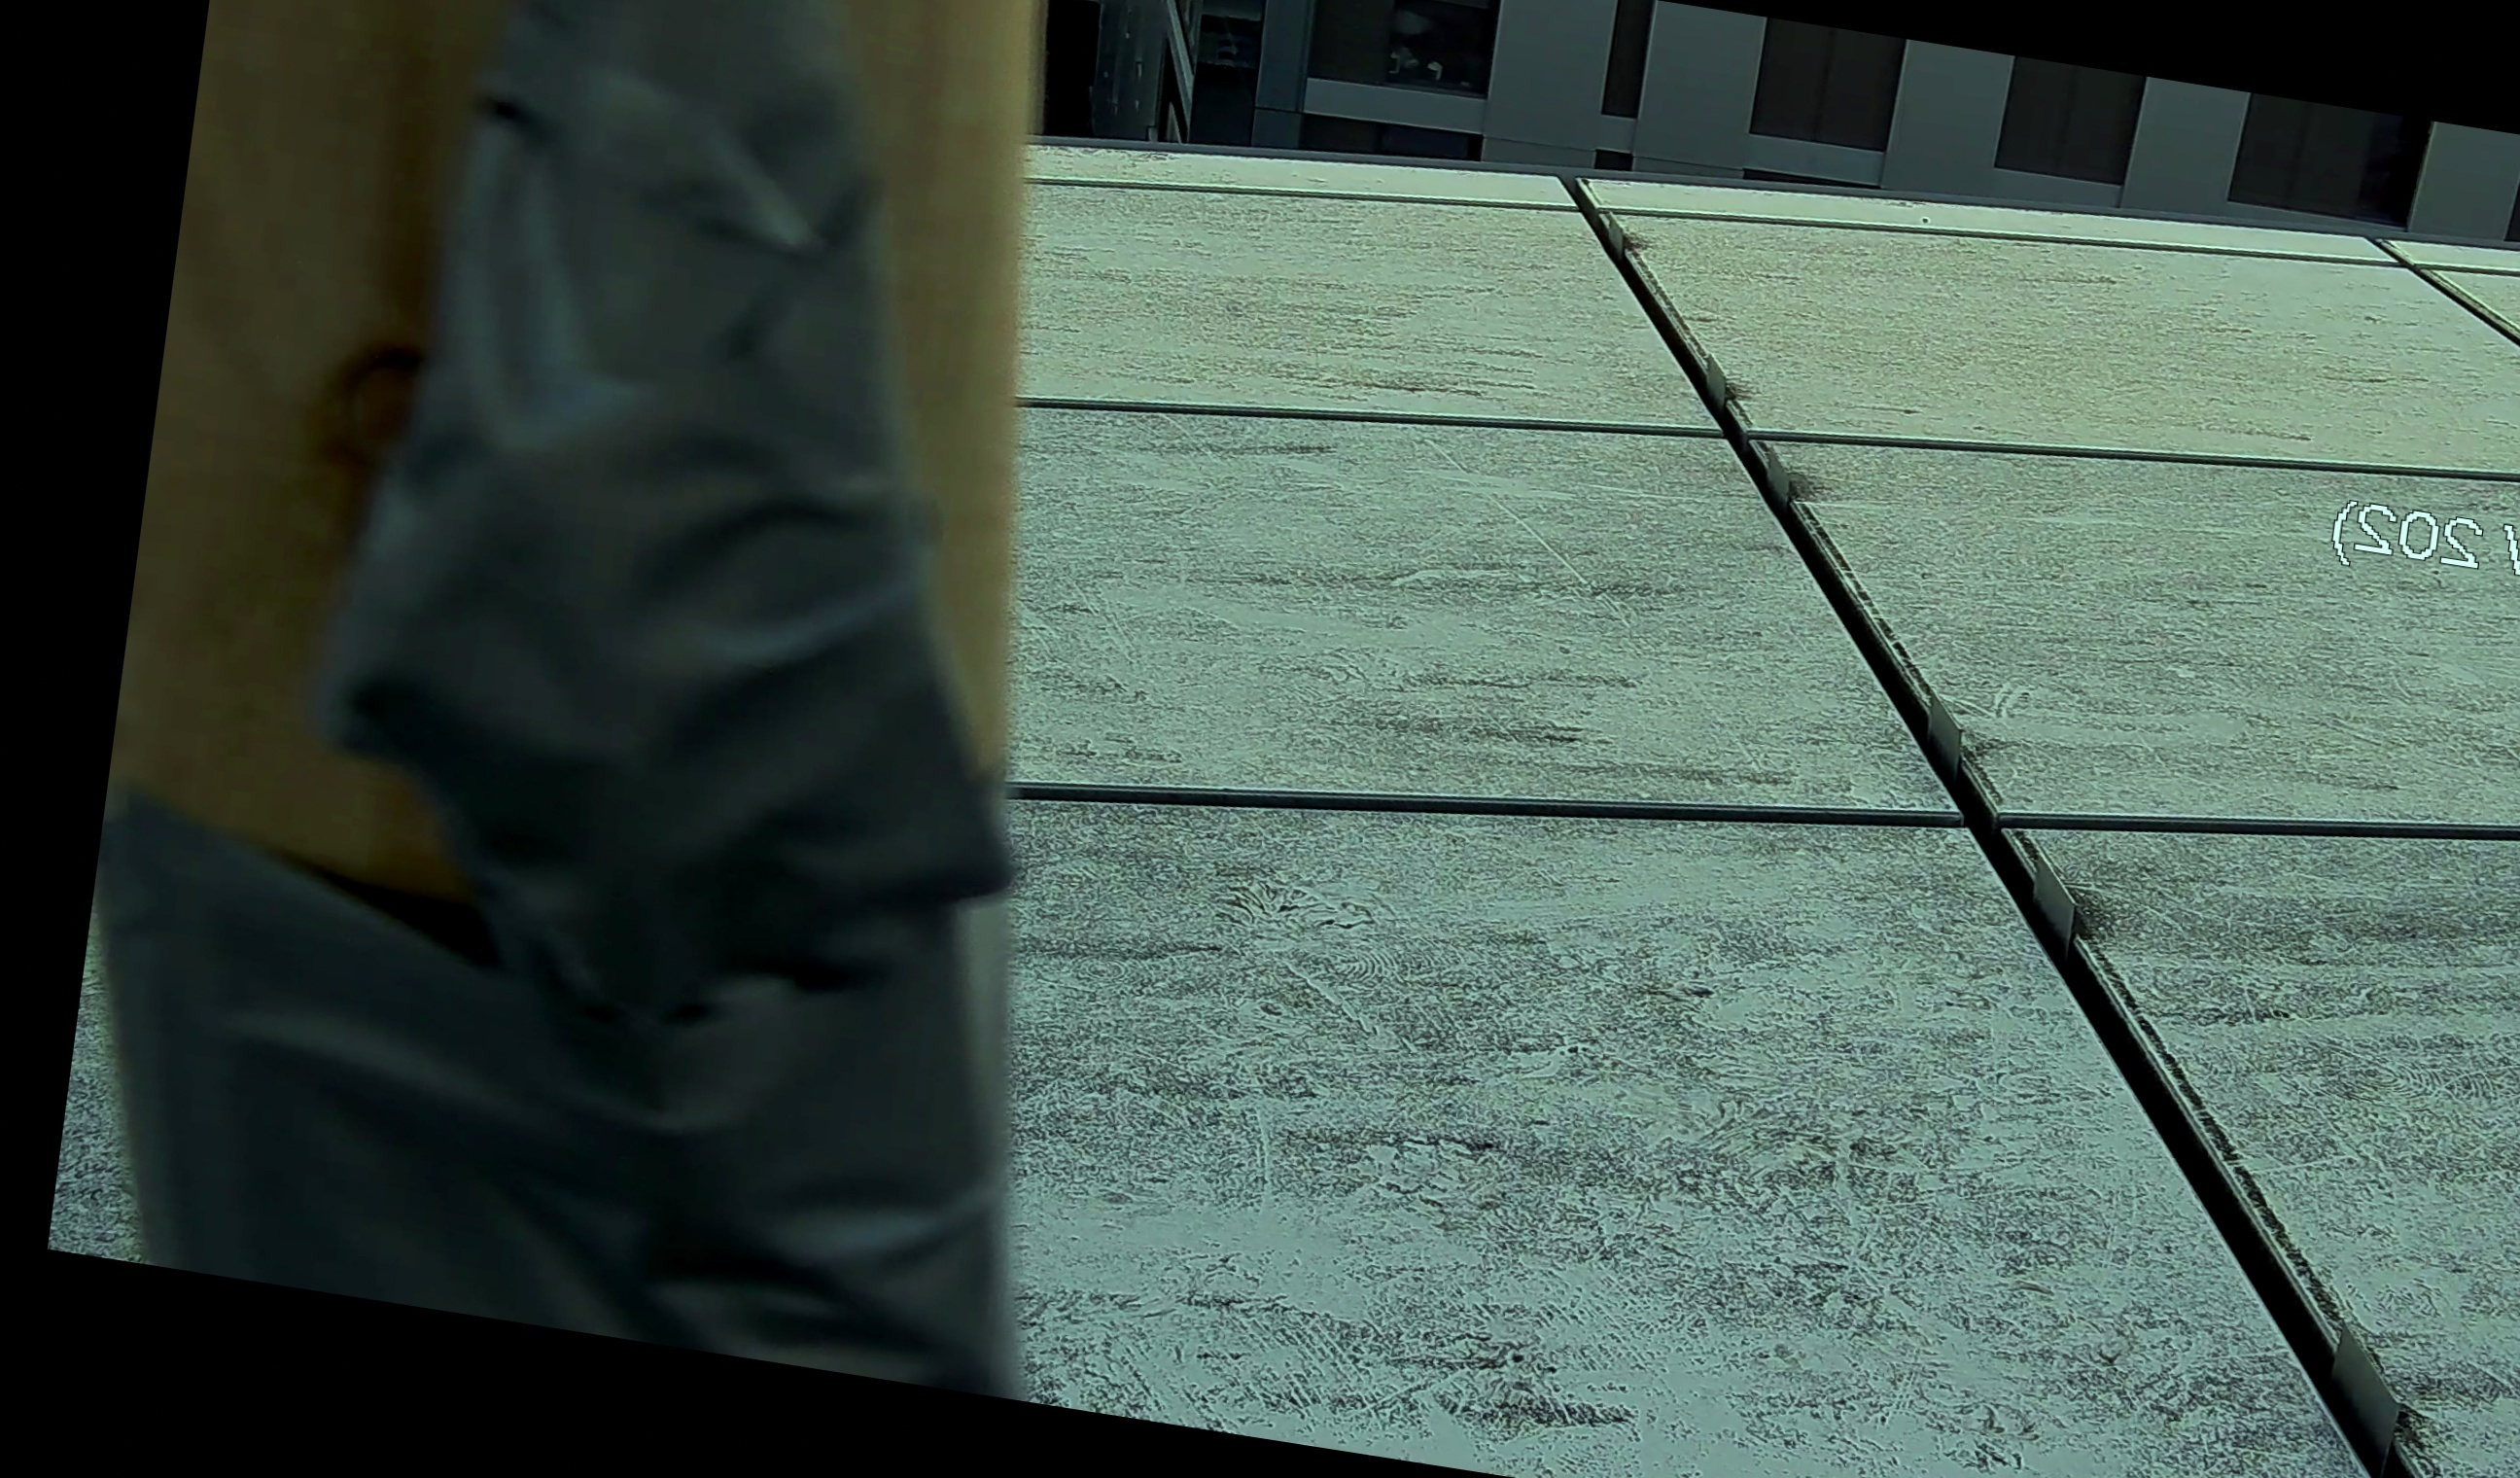Other: (0, 0, 1182, 1397)
